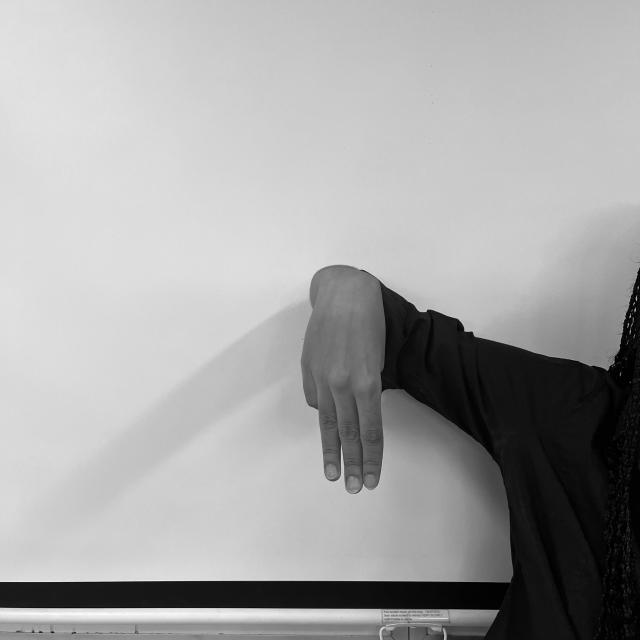Letra M: (298, 273, 386, 497)
